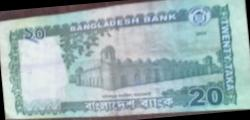20 taka: (6, 1, 247, 120)
